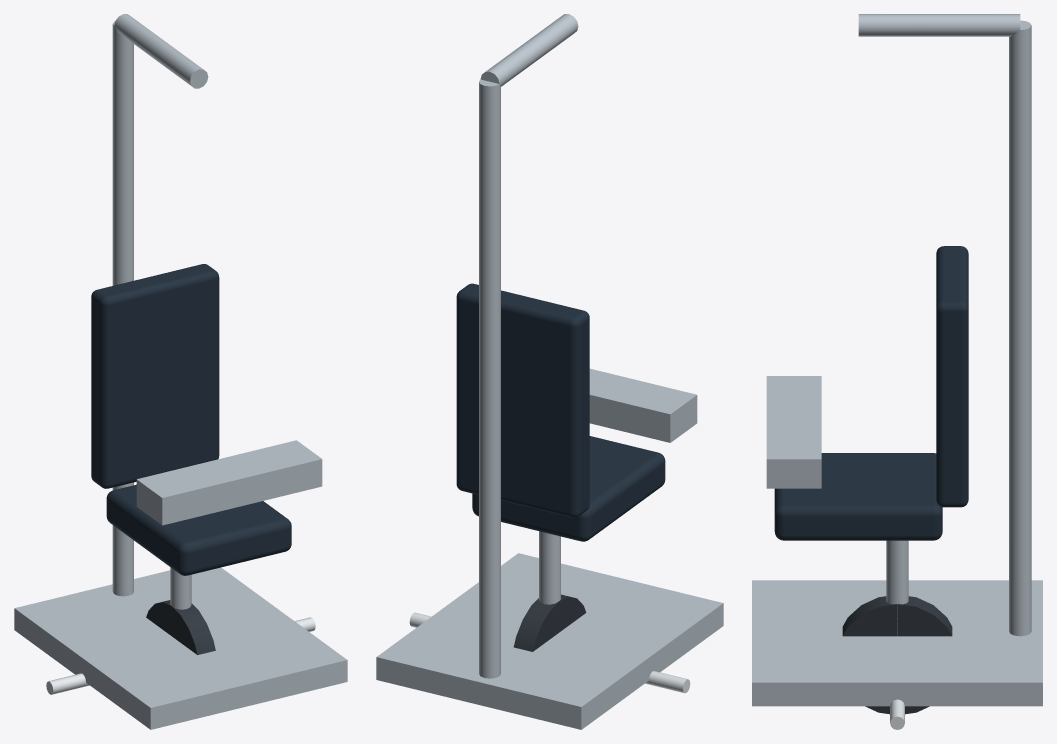
The model's file is plate_lat_pulldown.glb.
3 views of the same model, side by side, from view 1: azimuth 30°, elevation 25°; view 2: azimuth 150°, elevation 25°; view 3: azimuth 270°, elevation 25° (orthographic). The views are drawn at different scales.
Parts seen in each view (by area): view 1: base, back, thighRestraint, seat, overhead, pulleyArm, LweightPlate, post, grip; view 2: base, back, overhead, seat, thighRestraint, pulleyArm, LweightPlate, post, grip; view 3: base, overhead, seat, back, thighRestraint, LweightPlate, pulleyArm, post.
Part boxes in pixels (bbox=[...]): base: bbox=[14, 567, 347, 729]; back: bbox=[91, 264, 219, 488]; thighRestraint: bbox=[136, 440, 322, 525]; seat: bbox=[106, 484, 291, 575]; overhead: bbox=[112, 21, 133, 596]; pulleyArm: bbox=[114, 14, 208, 88]; LweightPlate: bbox=[146, 600, 215, 654]; post: bbox=[170, 567, 191, 609]; grip: bbox=[46, 617, 315, 694]; base: bbox=[376, 553, 723, 729]; back: bbox=[456, 283, 589, 517]; overhead: bbox=[479, 79, 500, 678]; seat: bbox=[472, 436, 665, 541]; thighRestraint: bbox=[589, 368, 697, 442]; pulleyArm: bbox=[480, 14, 578, 86]; LweightPlate: bbox=[513, 594, 586, 651]; post: bbox=[539, 531, 560, 604]; grip: bbox=[409, 612, 690, 693]; base: bbox=[752, 580, 1042, 706]; overhead: bbox=[1009, 20, 1031, 636]; seat: bbox=[774, 453, 942, 540]; back: bbox=[936, 246, 968, 507]; thighRestraint: bbox=[766, 376, 821, 488]; LweightPlate: bbox=[842, 596, 952, 714]; pulleyArm: bbox=[858, 14, 1020, 36]; post: bbox=[886, 540, 908, 635].
Size of the model in its own units: 1 by 2.37 by 0.9.
